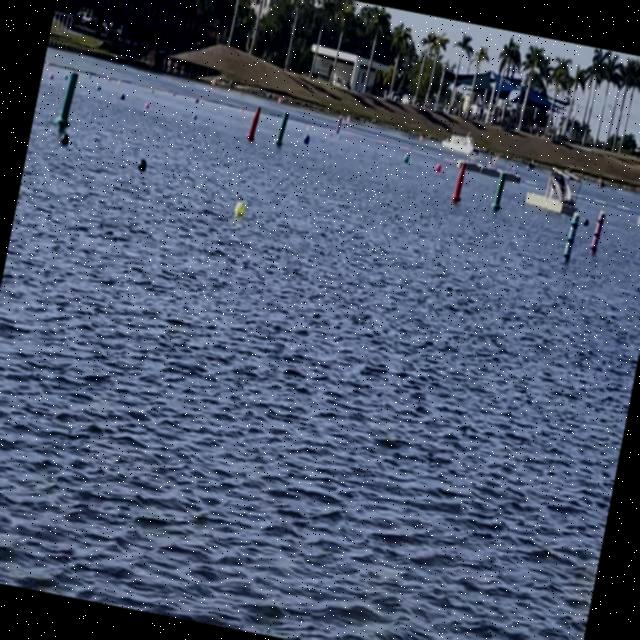buoy: (232, 195, 246, 219), (135, 156, 148, 173), (302, 130, 314, 148), (59, 130, 70, 148), (402, 151, 410, 165), (582, 214, 590, 226), (435, 162, 443, 172)
